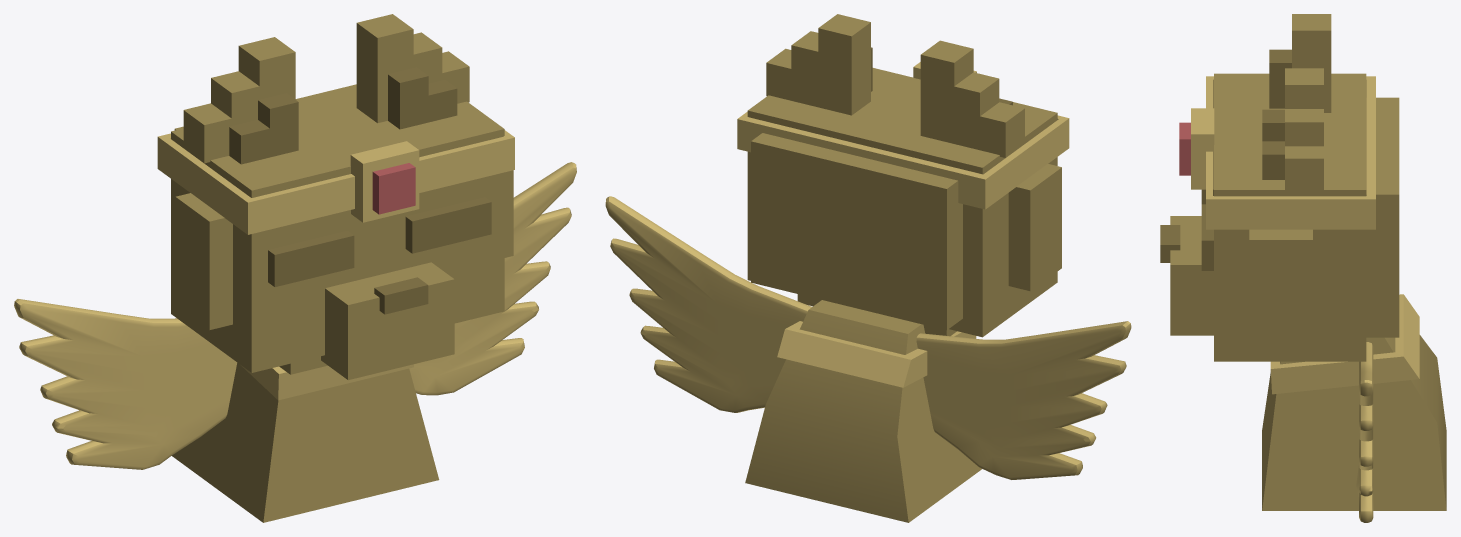
The model's file is totem.fbx.
The picture shows the model from 3 angles, left to right: view 1: azimuth 30°, elevation 25°; view 2: azimuth 150°, elevation 25°; view 3: azimuth 270°, elevation 25°; orthographic projection. The views are drawn at different scales.
Parts seen in each view (by area): view 1: polySurface87, pCube216, pCube357, polySurface88, pCube358, pCube202, pCube206, pCube211, pCube226, pCube225, pCube209, pCube237 (+2 smaller); view 2: polySurface87, pCube216, pCube357, pCube358, pCube202, pCube206, polySurface88, pCube237; view 3: polySurface87, pCube216, polySurface88, pCube237, pCube206, pCube358, pCube202, pCube209, pCube211, pCube227, pCube226, pCube229.
Part boxes in pixels (x1,y1,x2,y2): polySurface87: (171, 84, 513, 380); pCube216: (172, 363, 439, 522); pCube357: (14, 299, 237, 469); polySurface88: (157, 130, 514, 234); pCube358: (409, 162, 576, 395); pCube202: (183, 37, 295, 163); pCube206: (356, 14, 469, 123); pCube211: (229, 93, 298, 164); pCube226: (405, 197, 491, 253); pCube225: (268, 231, 354, 286); pCube209: (388, 67, 457, 129); pCube237: (241, 364, 413, 400); polySurface87: (747, 68, 1061, 337); pCube216: (745, 300, 981, 522); pCube357: (916, 321, 1131, 479); pCube358: (605, 196, 811, 412); pCube202: (920, 40, 1024, 157); pCube206: (766, 14, 870, 115); polySurface88: (737, 62, 1069, 209); pCube237: (777, 321, 976, 387); polySurface87: (1170, 73, 1399, 361); pCube216: (1262, 335, 1446, 510); polySurface88: (1191, 76, 1375, 229); pCube237: (1270, 294, 1419, 394); pCube206: (1285, 68, 1323, 192); pCube358: (1356, 342, 1373, 522); pCube202: (1292, 14, 1331, 112); pCube209: (1262, 109, 1284, 179); pCube211: (1269, 49, 1291, 108); pCube227: (1160, 225, 1180, 262); pCube226: (1201, 204, 1213, 270); pCube229: (1179, 122, 1190, 175).
Size of the model in its own units: 0.7579 by 0.5762 by 0.3544.
